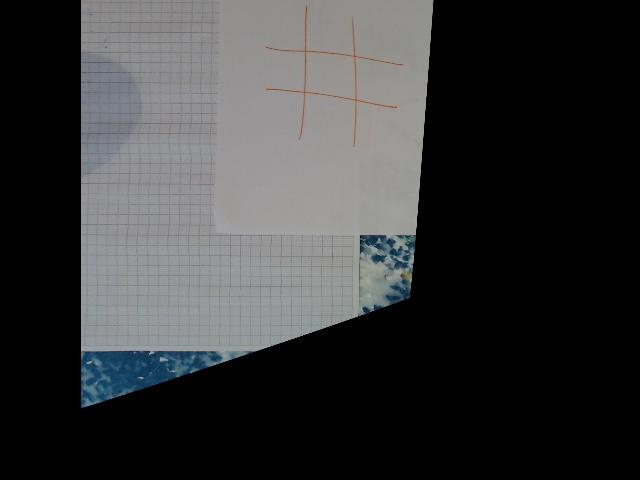grid: (264, 8, 406, 150)
